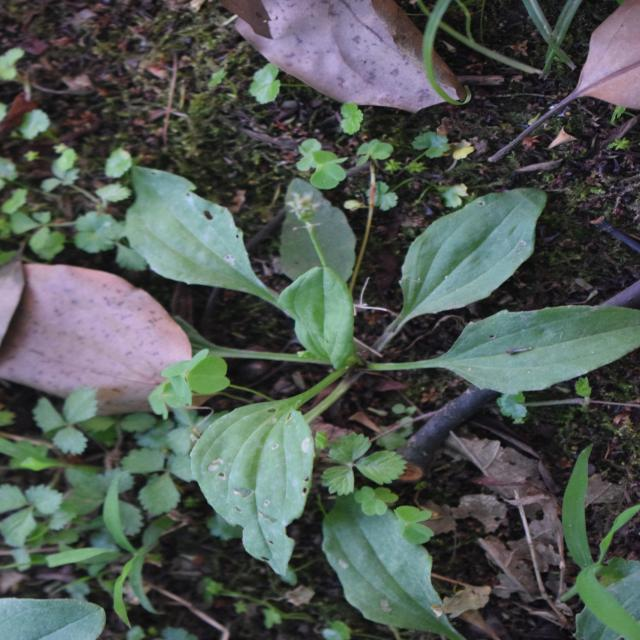plantain: (96, 130, 452, 582)
